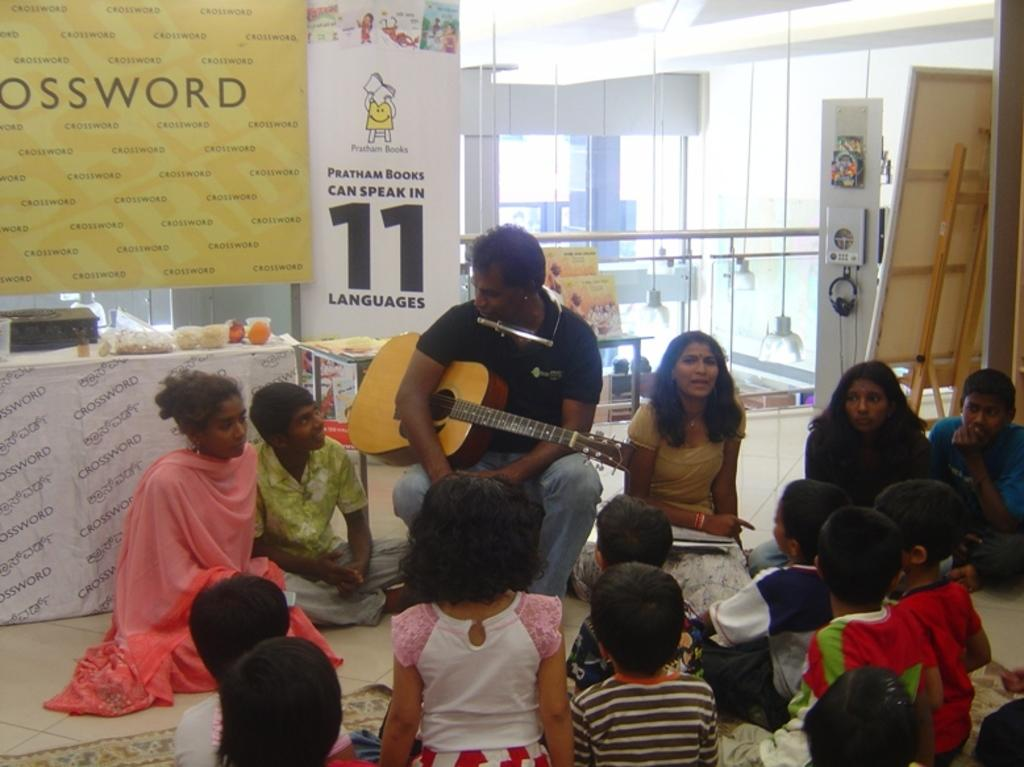Sem Máscara: (470, 256, 520, 319), (836, 375, 888, 435), (198, 394, 247, 451), (957, 388, 1007, 438), (677, 340, 720, 397), (283, 398, 323, 444)
